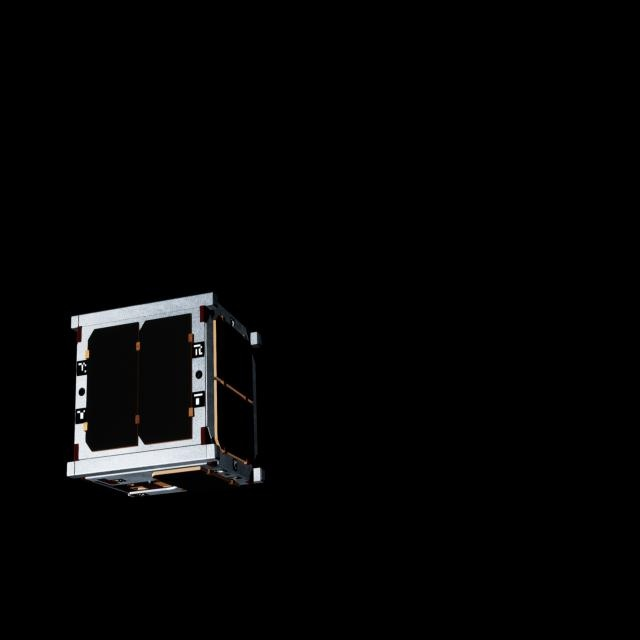medium_debris: (60, 286, 274, 503)
